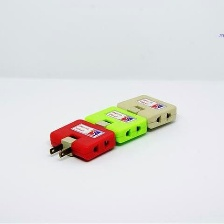three_eye_plug: (44, 114, 119, 166), (80, 102, 149, 149), (114, 90, 180, 134)
